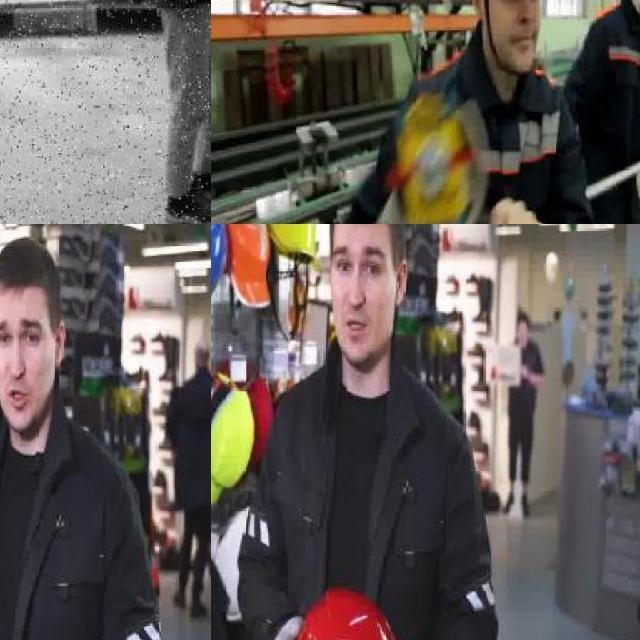apron: (265, 612, 302, 640)
